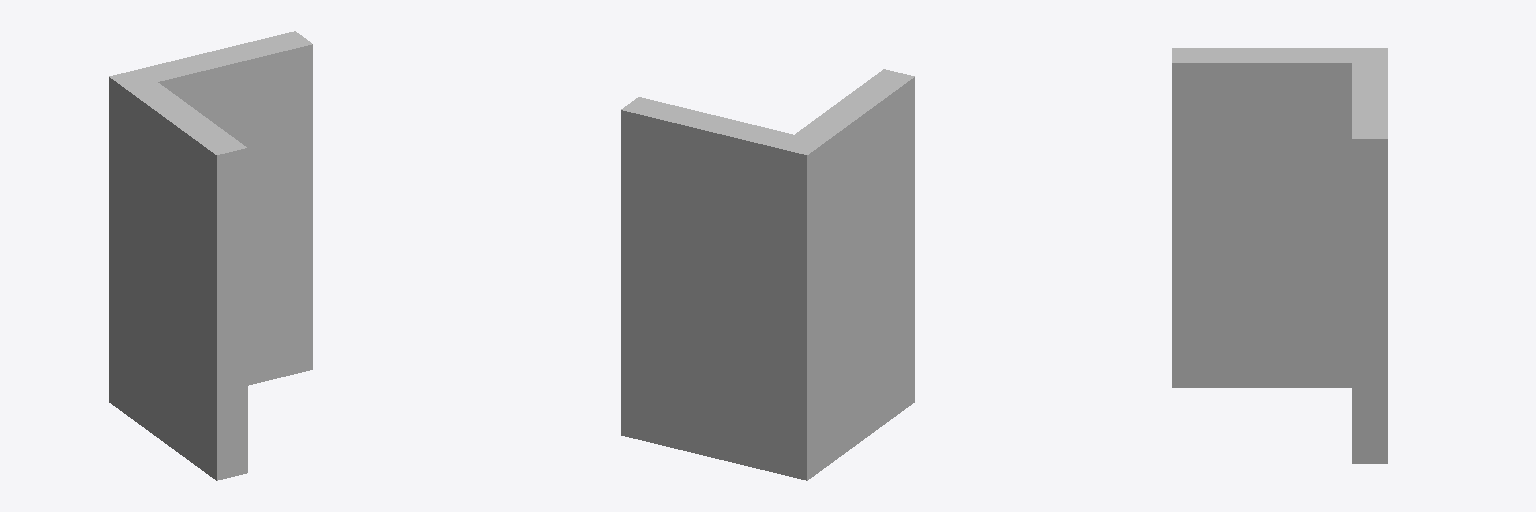
Rendered from corner external.obj.
3 views of the same model, side by side, from view 1: azimuth 30°, elevation 25°; view 2: azimuth 150°, elevation 25°; view 3: azimuth 270°, elevation 25° (orthographic).
Visible parts, largest first — view 1: Corner_Internal_Cube.001; view 2: Corner_Internal_Cube.001; view 3: Corner_Internal_Cube.001.
Boxes of the visible parts, <box> form: Corner_Internal_Cube.001: <box>109,31,312,480</box>; Corner_Internal_Cube.001: <box>621,69,914,480</box>; Corner_Internal_Cube.001: <box>1172,48,1387,463</box>.
Size of the model in its own units: 2.4 by 4 by 2.4.